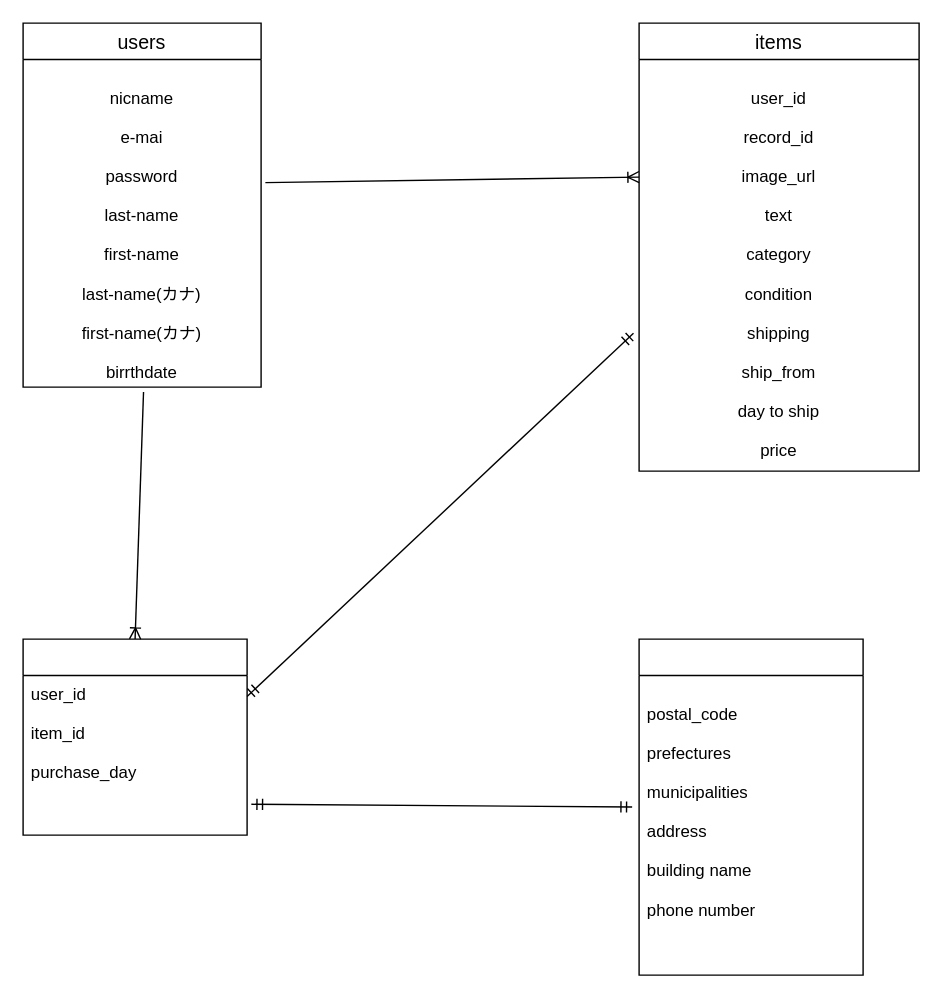
Some shapes in this 942 by 998 pixel diagram are drawn without their labels. Each missing label, with the box of its shape:
records: (22, 638, 247, 835)
shipping_address: (638, 638, 863, 975)
